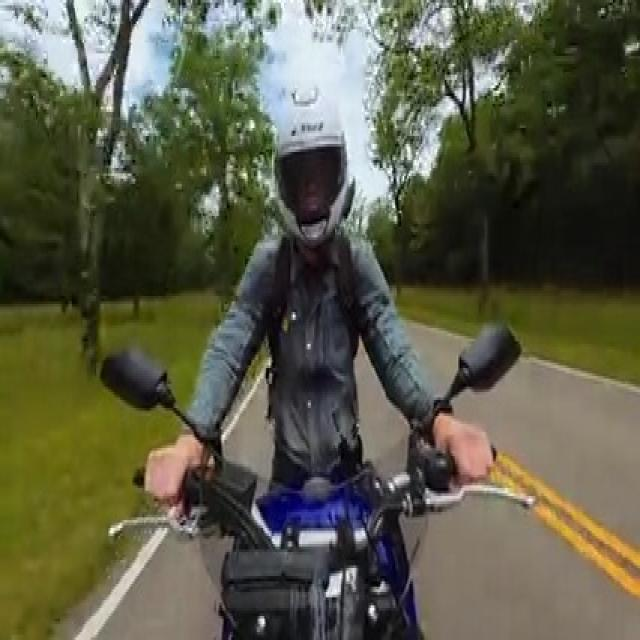Helmet_Wearer: (264, 78, 350, 248)
Person: (162, 79, 490, 506)
